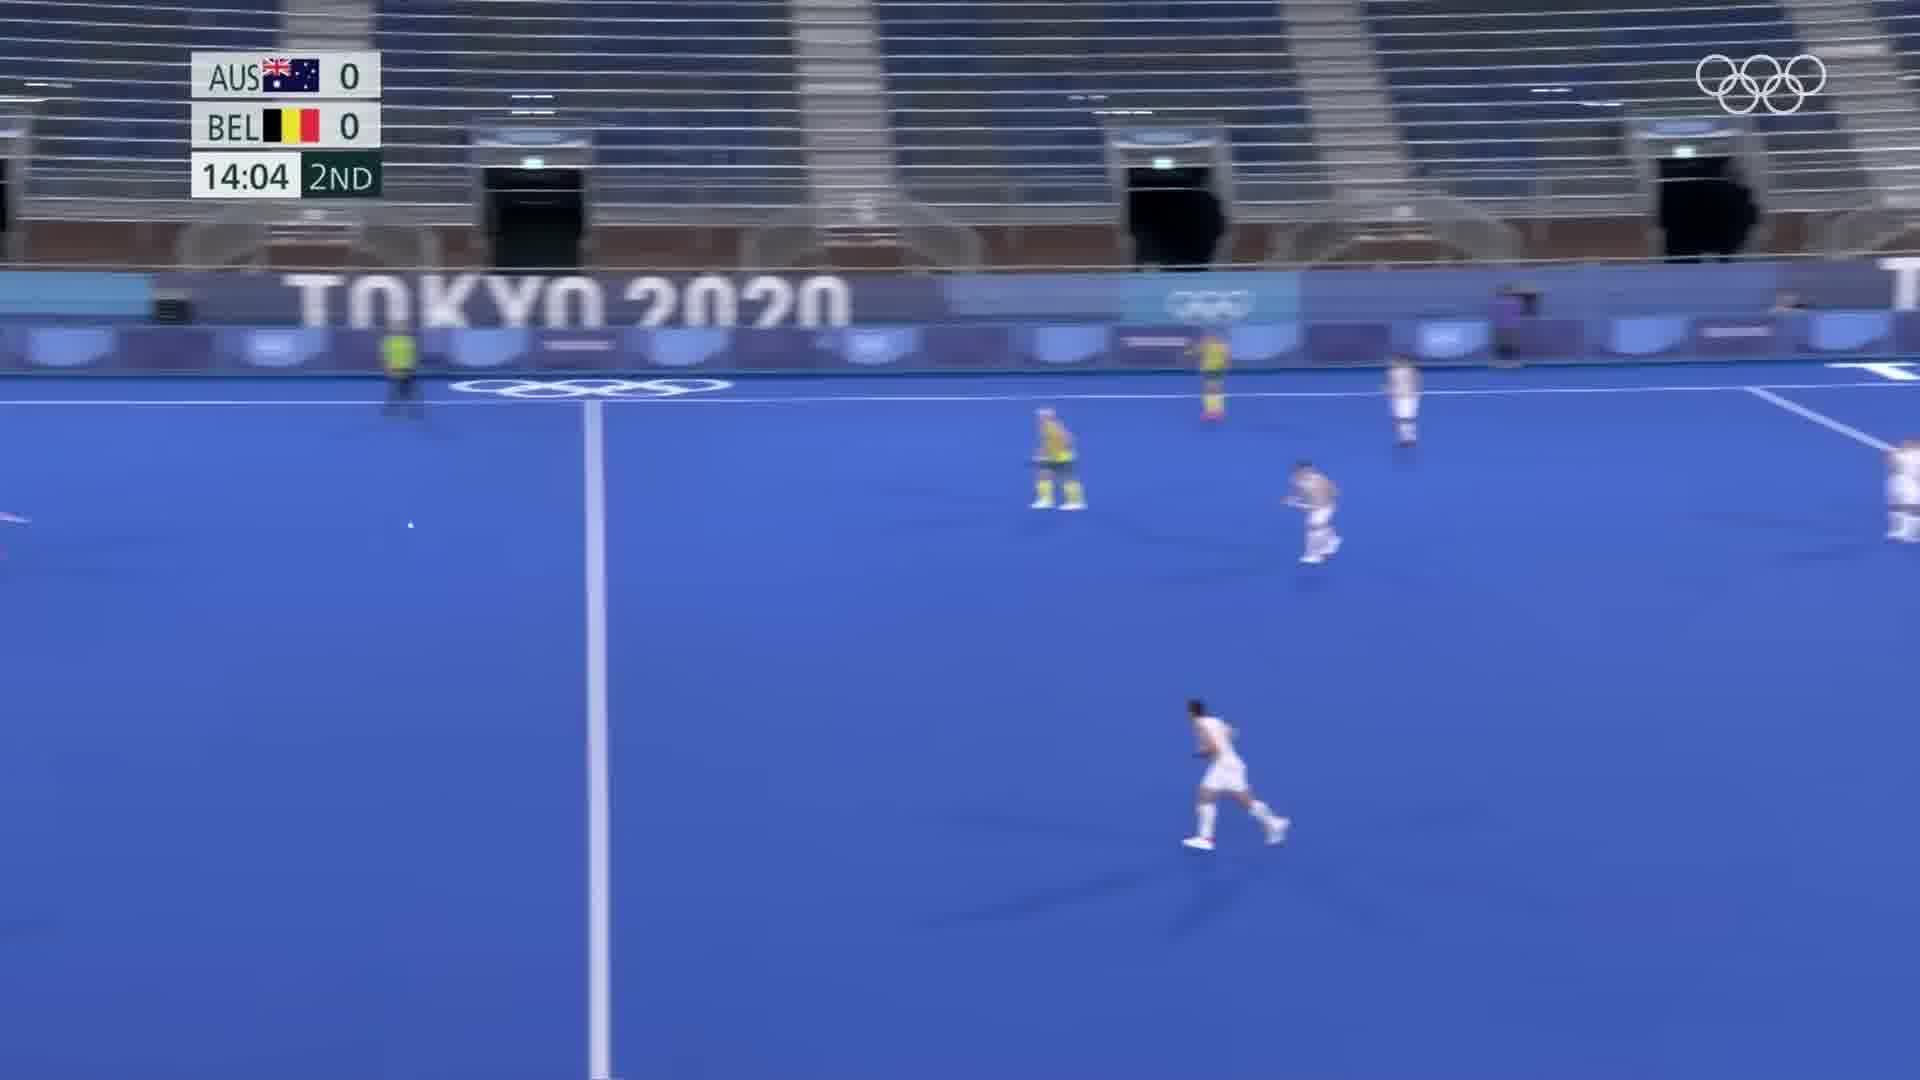ball: (404, 516, 418, 531)
